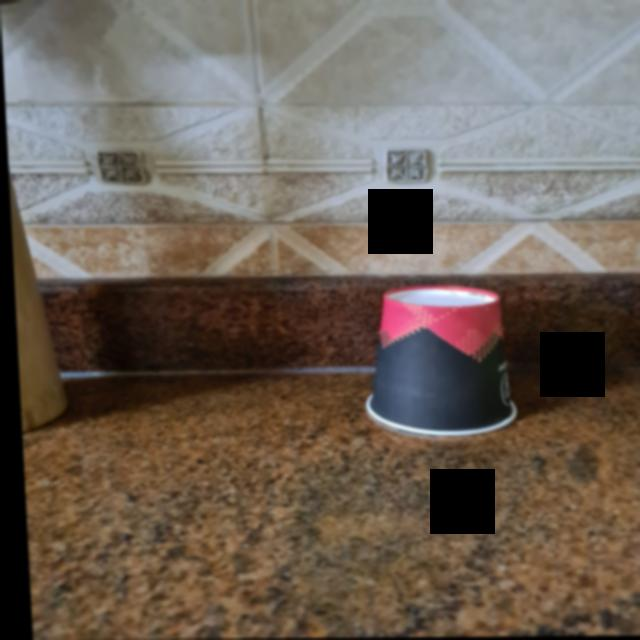cups: (354, 282, 517, 439)
